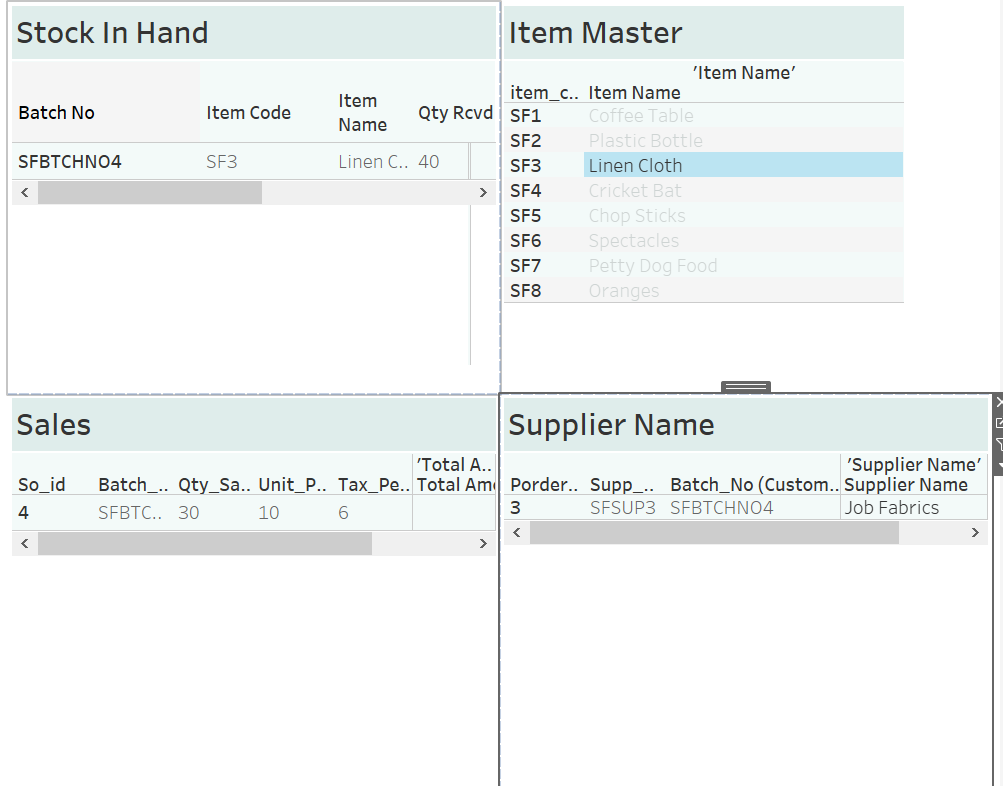

What the dashboard file says about the page in this screenshot:
{"tool":"tableau","page":{"name":"StockInHandDashBoard","canvas":[1000,800],"ordinal":0},"visuals":[{"type":"worksheet","title":"StockInHand","mark":"Automatic","rows":["Batch No","Item Code","Item Name","Qty Rcvd","Qty Sold","Inventory Qty"],"cols":["Calculation_217861669176479749"],"box":[8,8,492,392]},{"type":"worksheet","title":"Item Master","mark":"Automatic","rows":["item_code"],"cols":["Calculation_217861669178658823"],"box":[500,8,492,392]},{"type":"worksheet","title":"SaleOrder","mark":"Automatic","rows":["So_id","Batch_No","Qty_Sales","Unit_Price","Tax_Percent"],"cols":["Calculation_217861669185388553"],"box":[8,400,492,392]},{"type":"worksheet","title":"SupplierMaster","mark":"Automatic","rows":["Porder_Number","Supp_Code","Batch_No (Custom SQL Query3)"],"cols":["Calculation_217861669190660107"],"box":[500,400,492,392]}]}

Visuals, with their boxes in screenshot pixels (x1, y1, x2, y2), scaled from the page's 1000x800 canvas onto the 1003x786 screenshot:
"StockInHand" worksheet: (x1=8, y1=8, x2=501, y2=393)
"Item Master" worksheet: (x1=501, y1=8, x2=995, y2=393)
"SaleOrder" worksheet: (x1=8, y1=393, x2=501, y2=778)
"SupplierMaster" worksheet: (x1=501, y1=393, x2=995, y2=778)
